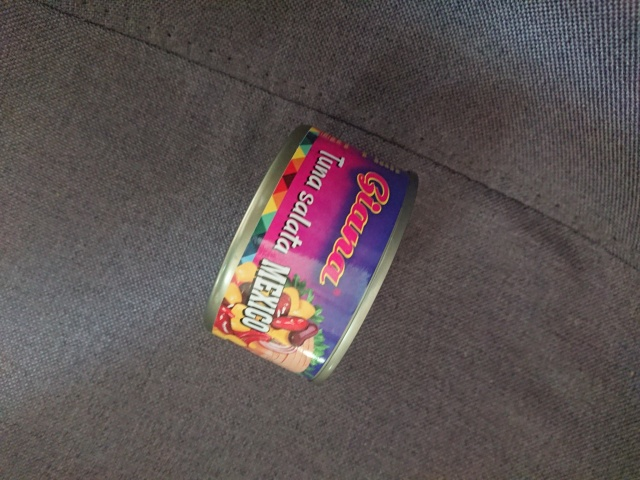Giana Tuna Salad Mexico 185g: (200, 120, 421, 390)
